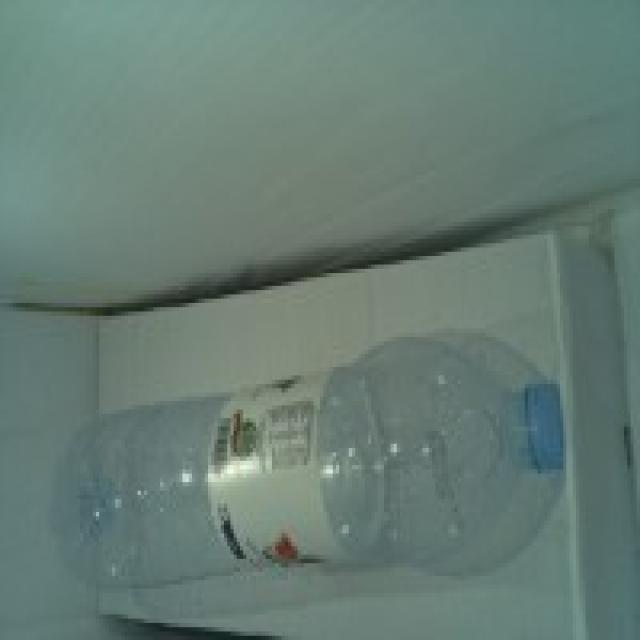Anorganik: (54, 324, 566, 589)
